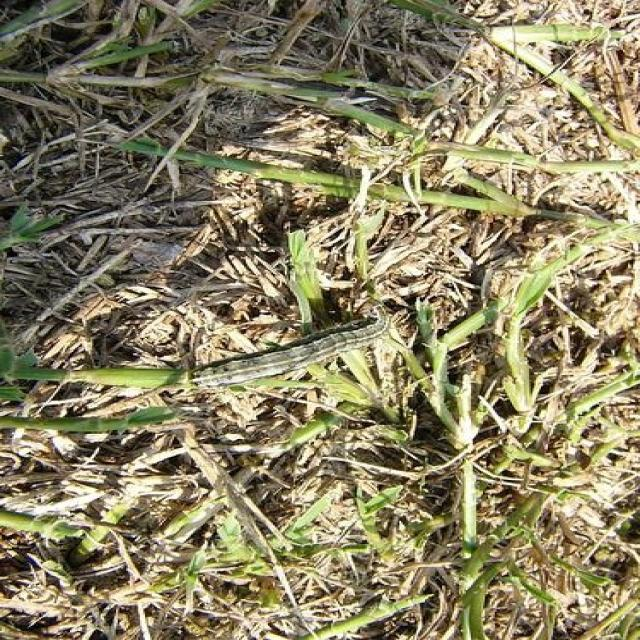army worm: (187, 300, 395, 403)
